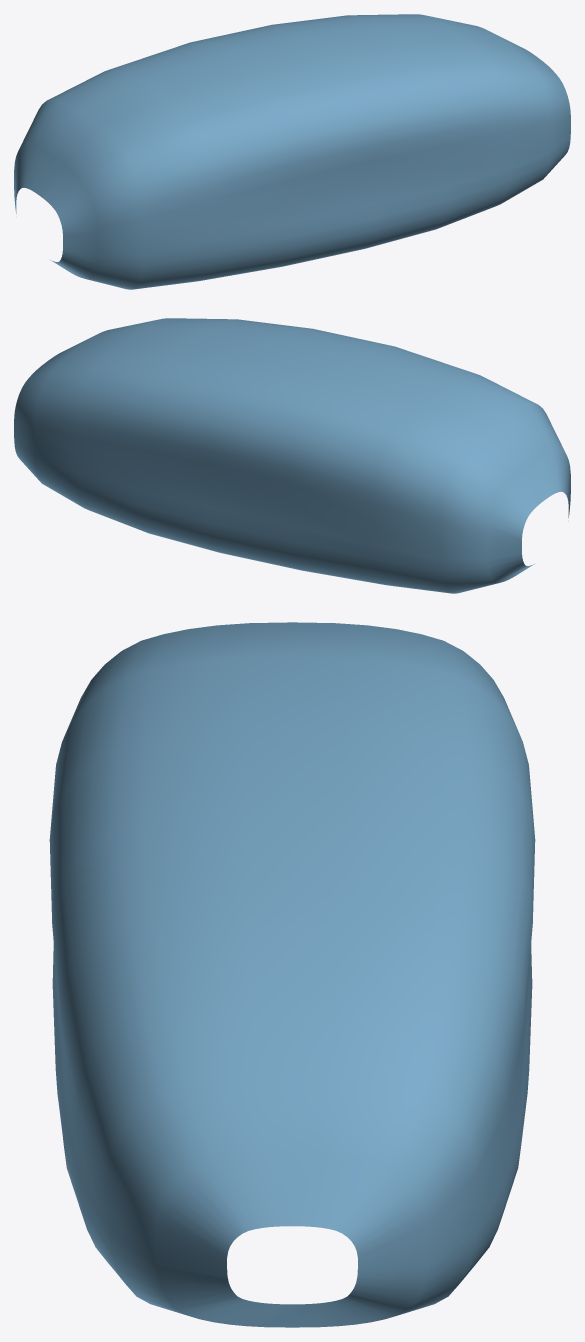
Rendered from tank.glb.
3 renders of one model, top to bottom at view 1: azimuth 30°, elevation 25°; view 2: azimuth 150°, elevation 25°; view 3: azimuth 270°, elevation 25°, orthographic. The views are drawn at different scales.
Visible parts, largest first — view 1: S51_Tank_HD; view 2: S51_Tank_HD; view 3: S51_Tank_HD.
Boxes of the visible parts, x1,y1,x2,y2 form: S51_Tank_HD: (14, 14, 570, 289); S51_Tank_HD: (14, 318, 570, 593); S51_Tank_HD: (49, 622, 535, 1327).
Size of the model in its own units: 1.88 by 0.6359 by 0.7695.
